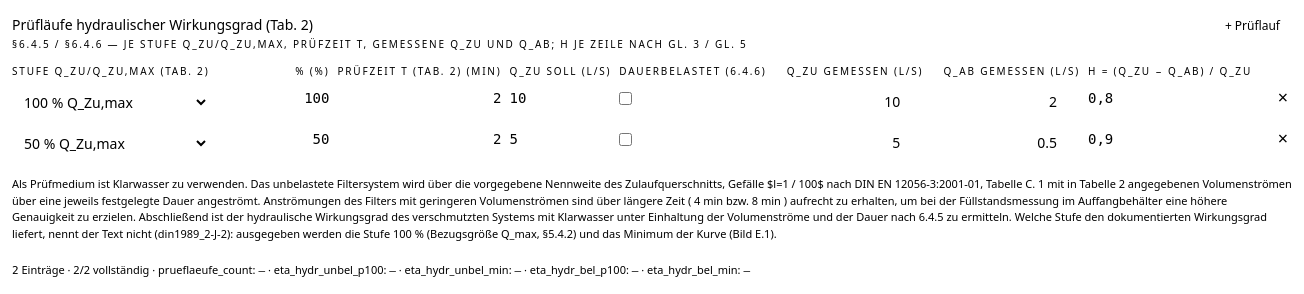
Scenario: prueflaeufe through the generic RegisterEditor (Plan 3 Task 17) › changing the step re-fills % and t from the table row and stores the key
Select "2,5 % Q_Zu,max" in the dropdown named "Stufe Q_Zu/Q_Zu,max (Tab. 2)" next to "50" at (111, 144), box top-left (12, 129), bottom-right (210, 158)
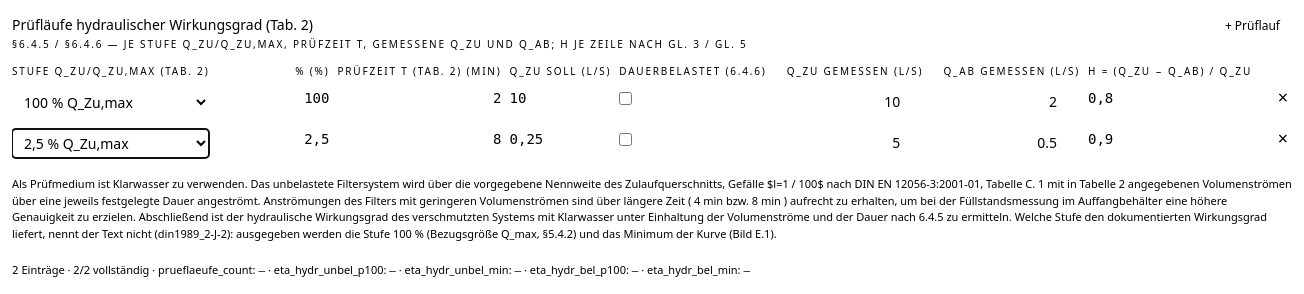
Expected: the text with test id "lookup-value-q_pct" reads "2,5", top-left (304, 131), bottom-right (330, 147)
Expected: the text with test id "lookup-value-t_min" reads "8", top-left (493, 131), bottom-right (502, 147)
